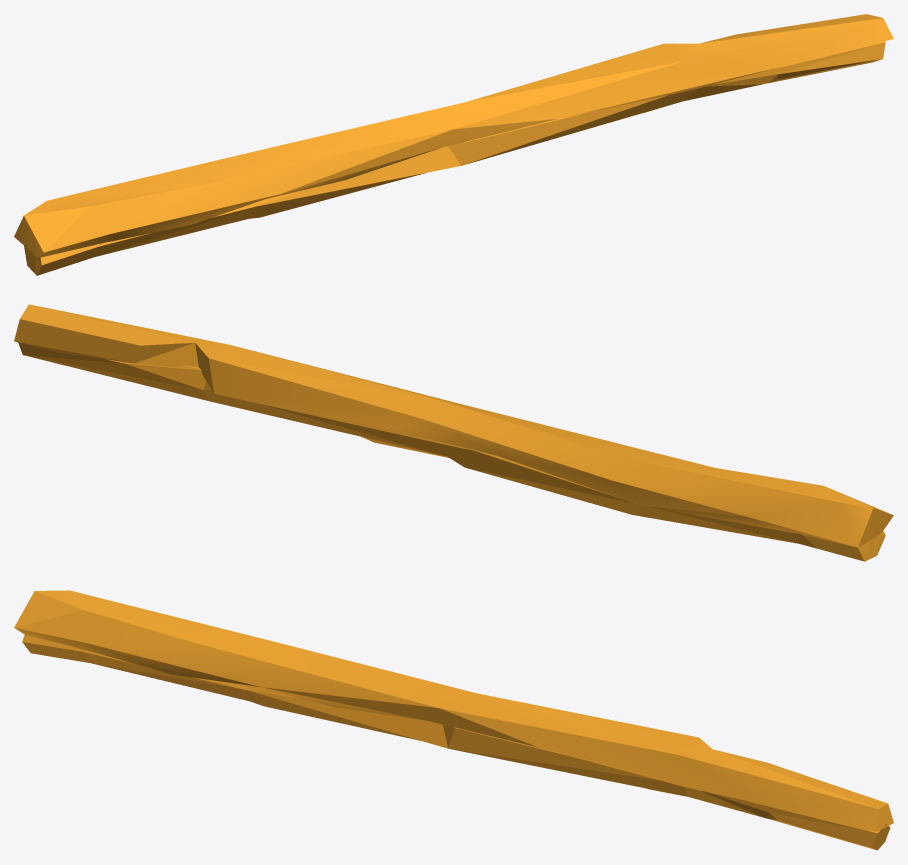
The model's file is SM_Tree_Birch_Log_A_Snow.fbx.
3 views of the same model, one above another, from view 1: azimuth 30°, elevation 25°; view 2: azimuth 150°, elevation 25°; view 3: azimuth 330°, elevation 25° (orthographic).
Parts seen in each view (by area): view 1: tree-birch-log-a-snow; view 2: tree-birch-log-a-snow; view 3: tree-birch-log-a-snow.
Boxes of the visible parts, <box> form: tree-birch-log-a-snow: <box>14,14,893,275</box>; tree-birch-log-a-snow: <box>14,304,893,561</box>; tree-birch-log-a-snow: <box>14,590,893,850</box>.
Bounding box in the file's own units: 4.92 × 0.334 × 0.3914.
